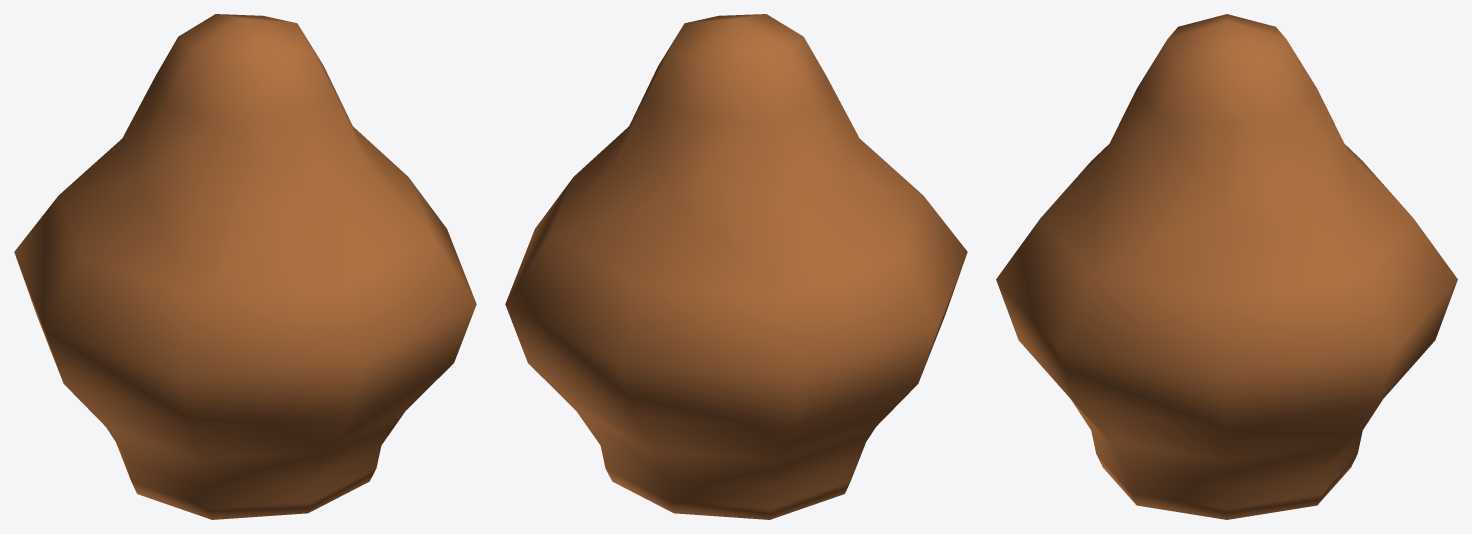
The model's file is Mesh_Pot2.glb.
The picture shows the model from 3 angles, left to right: view 1: azimuth 30°, elevation 25°; view 2: azimuth 150°, elevation 25°; view 3: azimuth 270°, elevation 25°; orthographic projection.
Parts seen in each view (by area): view 1: Cube.009; view 2: Cube.009; view 3: Cube.009.
Boxes of the visible parts, bbox=[...] form: Cube.009: bbox=[14, 14, 476, 519]; Cube.009: bbox=[505, 14, 967, 519]; Cube.009: bbox=[996, 14, 1457, 519].
Bounding box in the file's own units: 4.19 × 4.47 × 4.19.
